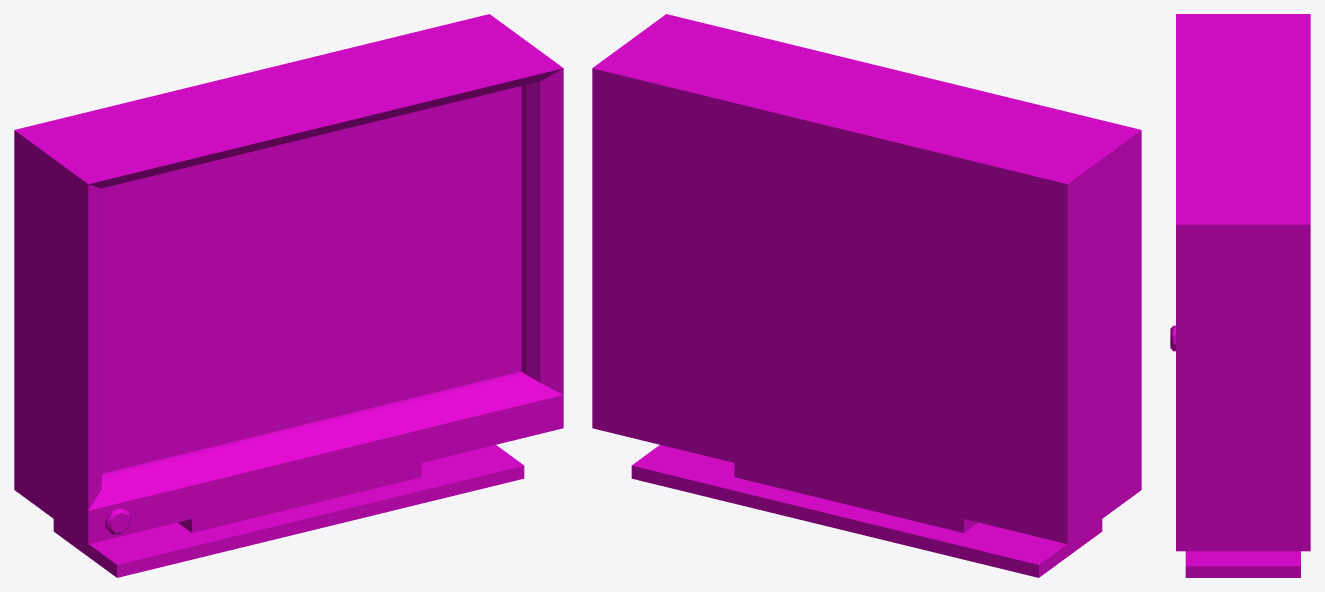
File: Muse_tv6_exp_001.fbx
The picture shows the model from 3 angles, left to right: view 1: azimuth 30°, elevation 25°; view 2: azimuth 150°, elevation 25°; view 3: azimuth 270°, elevation 25°; orthographic projection. The views are drawn at different scales.
Visible parts, largest first — view 1: pCube31; view 2: pCube31; view 3: pCube31.
Boxes of the visible parts, left/top/right/bottom form: pCube31: left=14, top=14, right=563, bottom=577; pCube31: left=592, top=14, right=1141, bottom=577; pCube31: left=1176, top=14, right=1310, bottom=577.
Bounding box in the file's own units: 3.09 × 2.52 × 0.8672.
